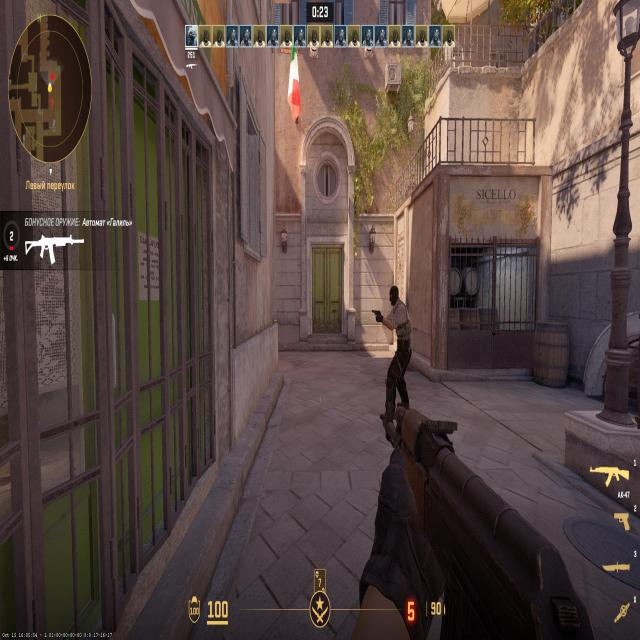T: (386, 283, 409, 385)
T_heat: (391, 288, 400, 309)
